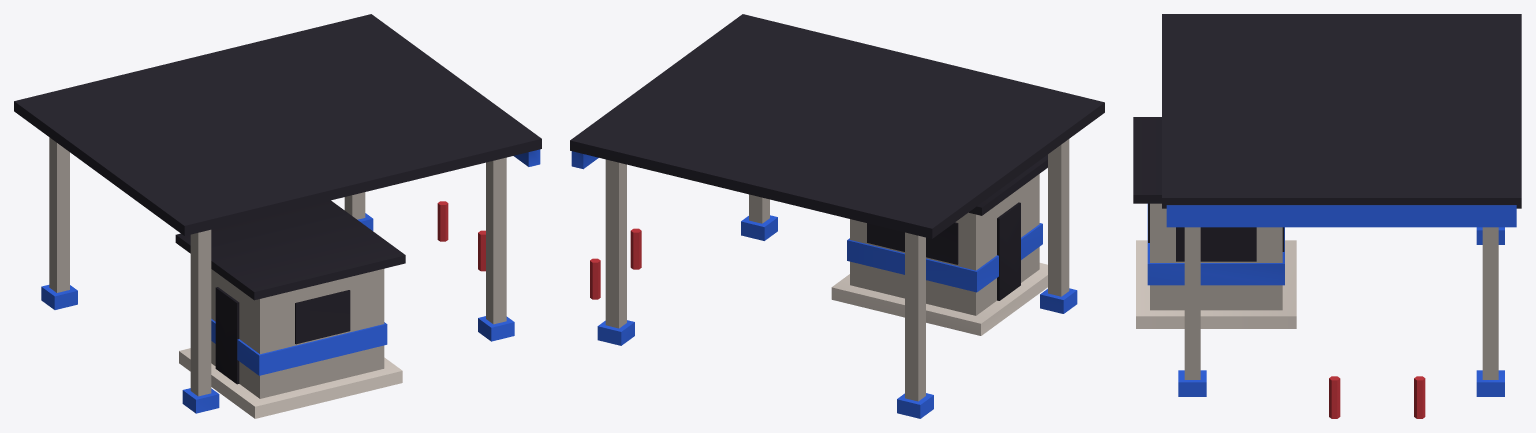
File: bld.cure-security-post.lod2.glb
The picture shows the model from 3 angles, left to right: view 1: azimuth 30°, elevation 25°; view 2: azimuth 150°, elevation 25°; view 3: azimuth 270°, elevation 25°; orthographic projection. The views are drawn at different scales.
Parts seen in each view (by area): view 1: body; view 2: body; view 3: body.
Boxes of the visible parts, x1,y1,x2,y2 form: body: (14, 14, 541, 418); body: (570, 14, 1104, 418); body: (1133, 14, 1521, 418).
Size of the model in its own units: 9.9 by 4.88 by 8.2.
